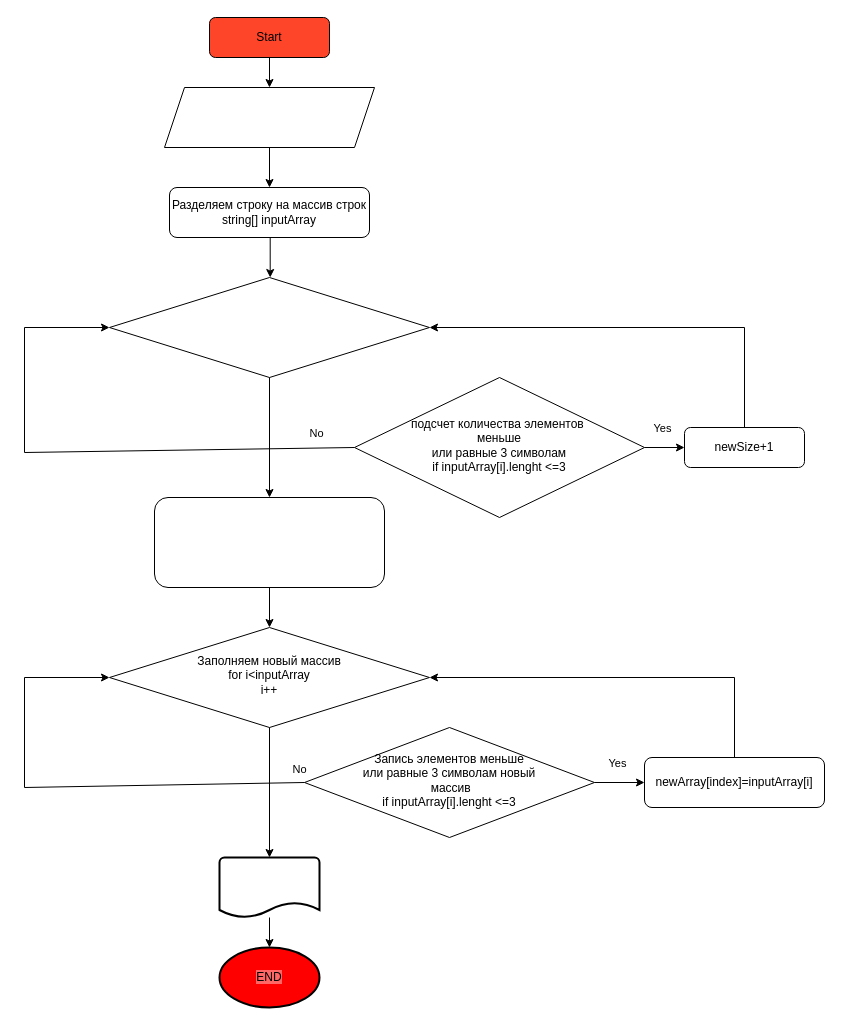
The diagram is 842 pixels wide and 1026 high, and some of its shapes have lost their labels. The shapes that lost their labels are listed below. From the top down, each one's centre as x and y in pixels, then its label:
[269,117]: string arr[]=Ввод с консоли int newSize = 0
[269,327]: перебираем новый массив for i< inputArray i++
[269,542]: Создание нового массива string[] newArray = newSize
[269,887]: Вывод результата
